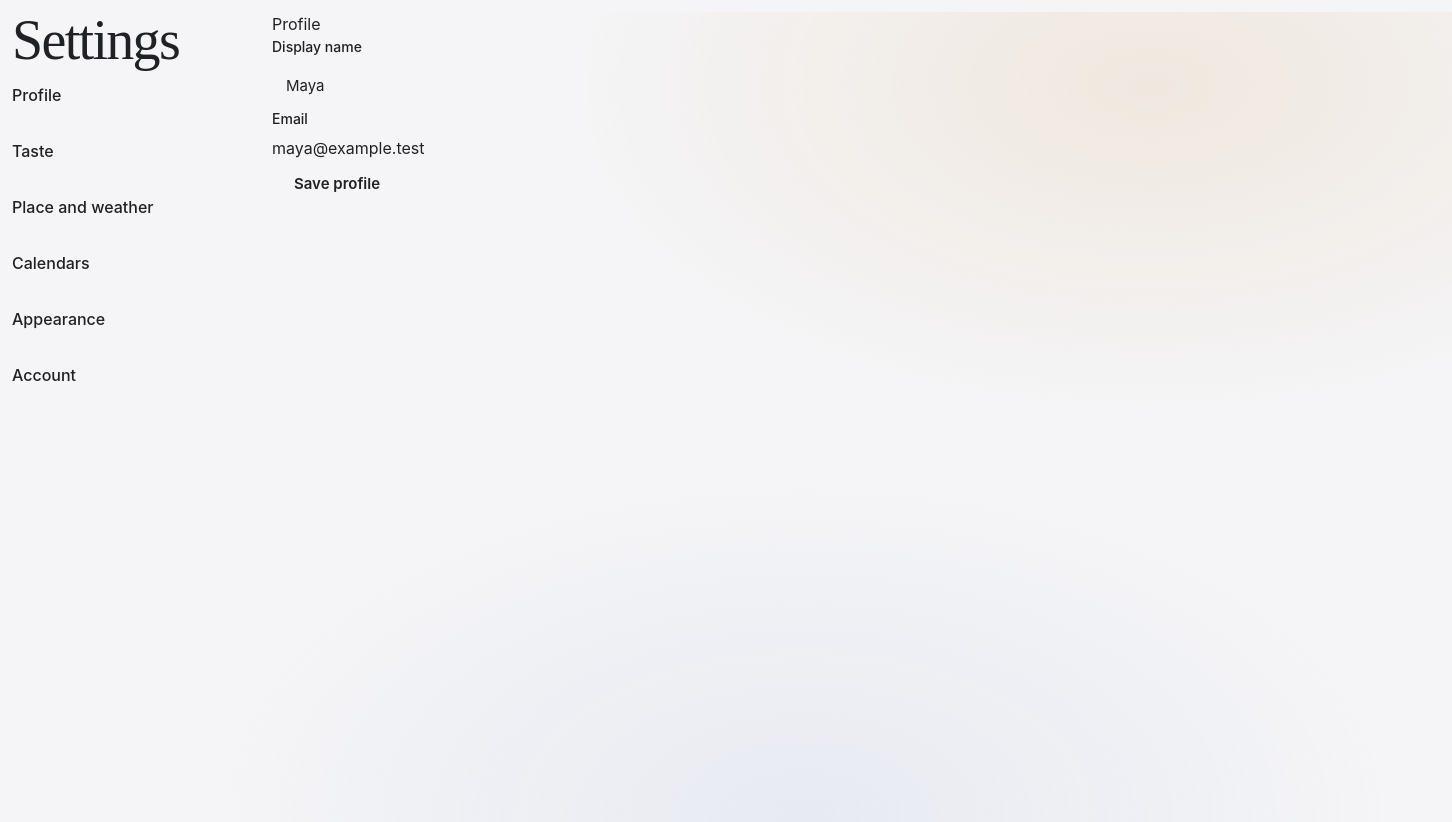
Scenario: deep links › opens a section from the list and writes it to the address
The image size is (1452, 822).
Step 1. Click the button "Place and weather" → coordinates (142, 208), box [12,180,272,236]
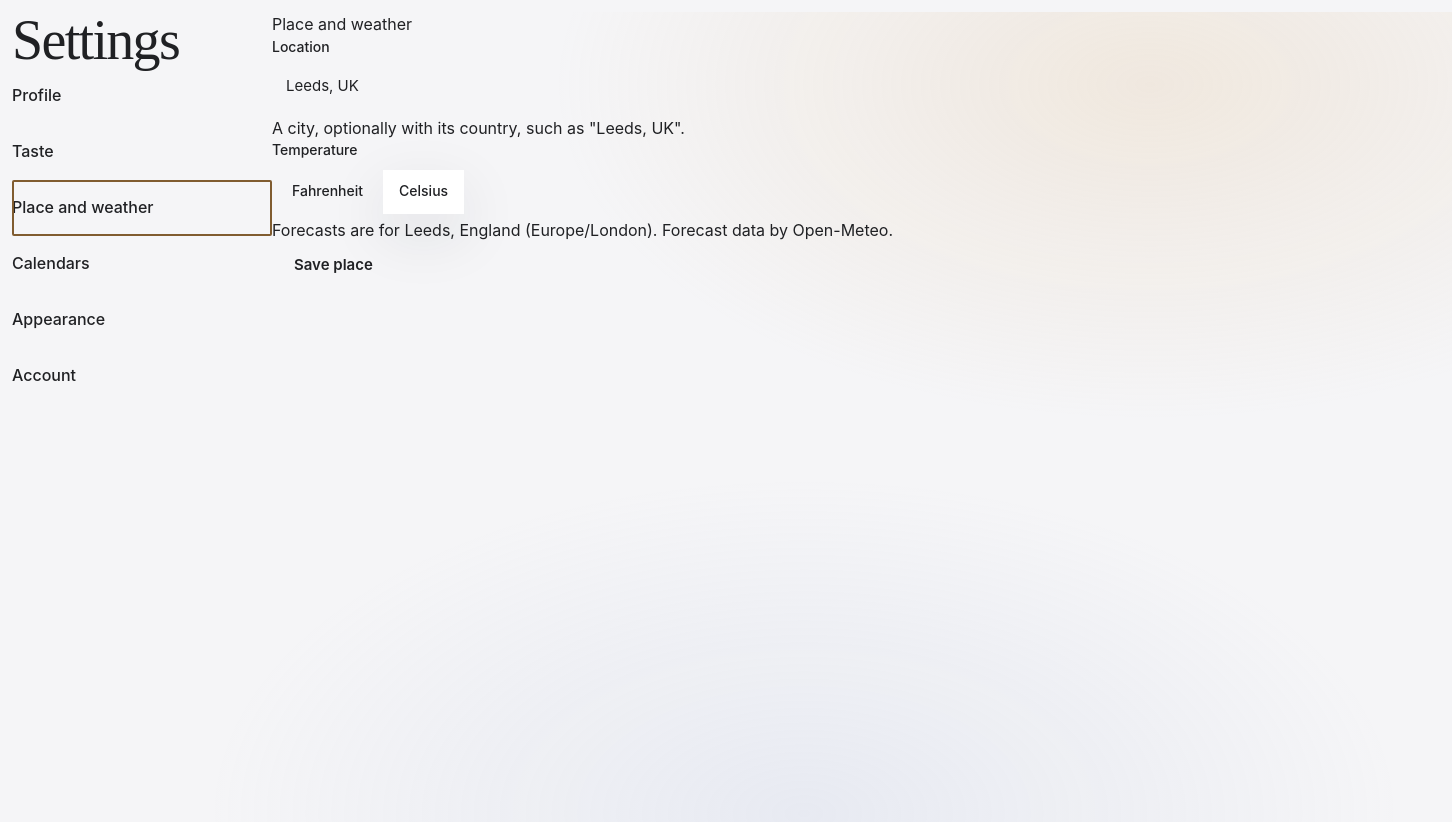
Expected: the heading "Place and weather" is shown, [272,14,412,34]
